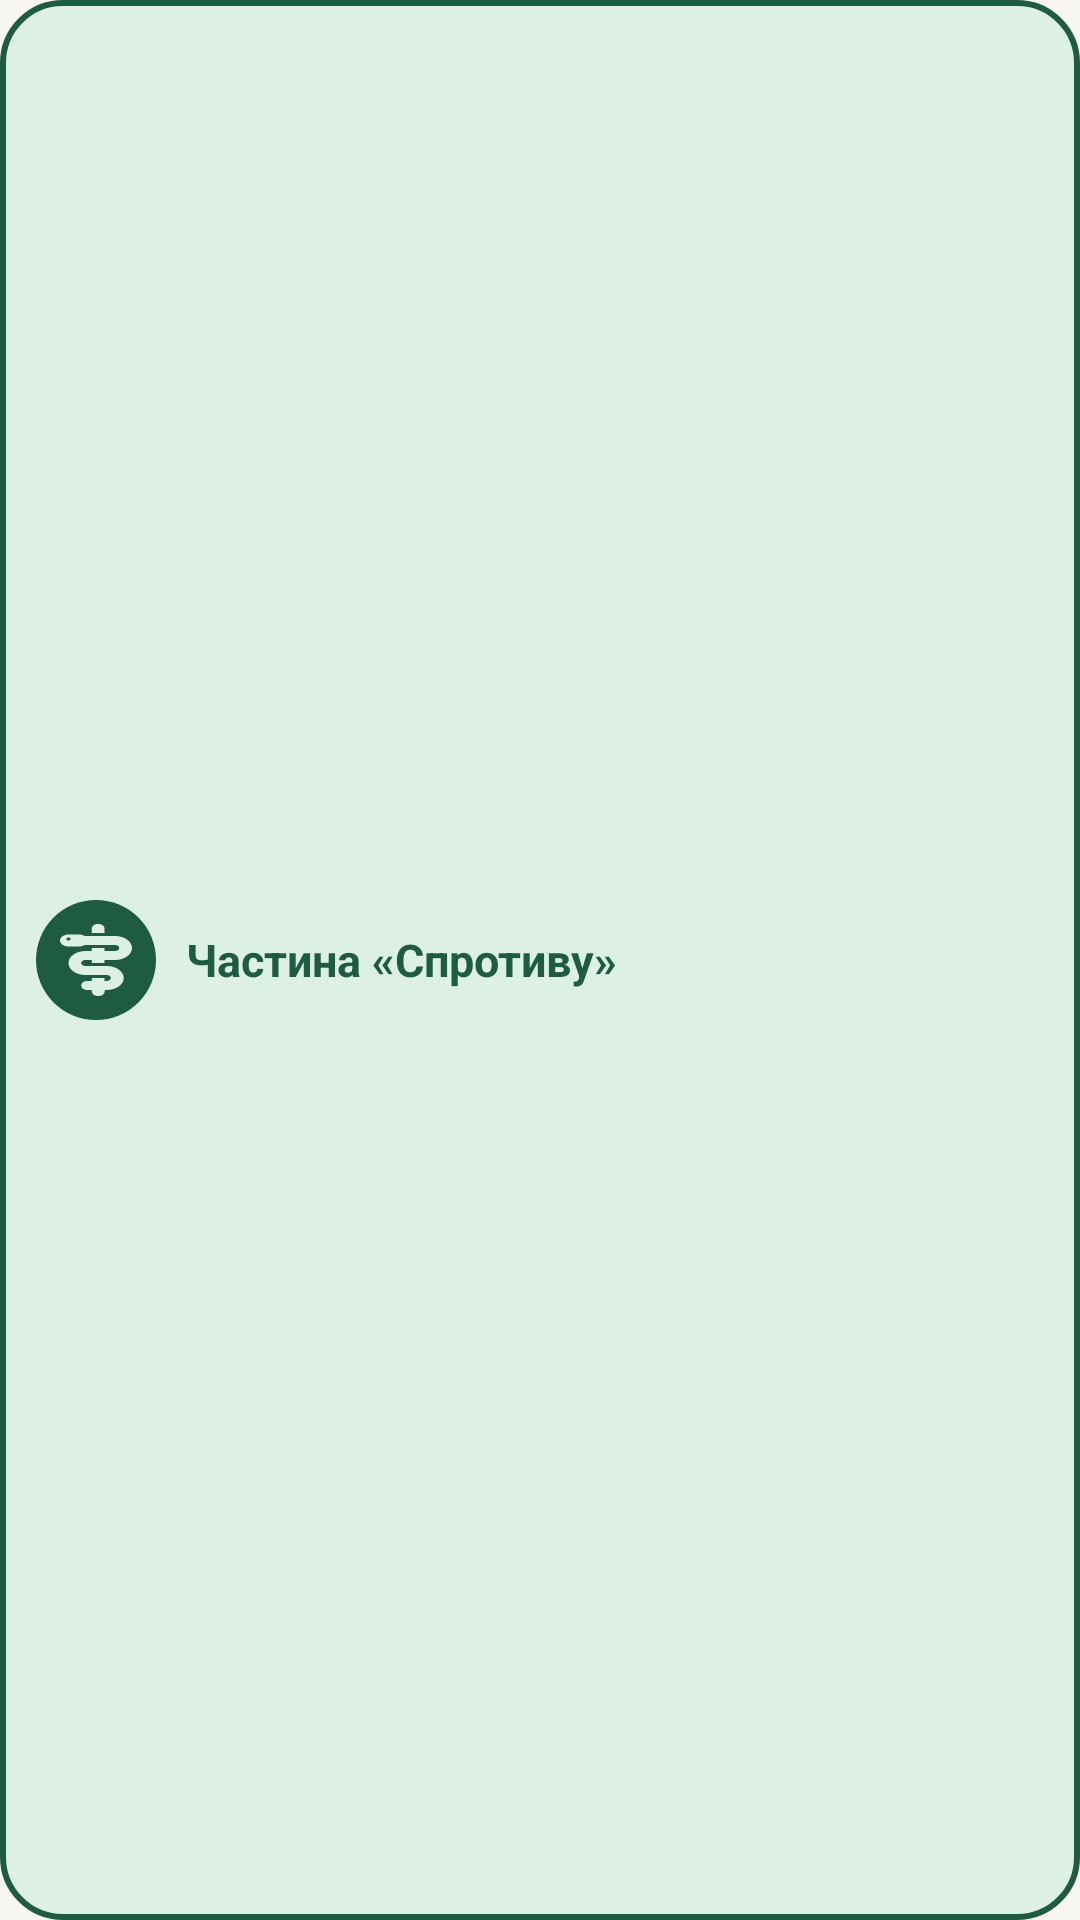

Icon bounding boxes for this 1080px×1920px phone screenshot, format (x1,y1,x2,y2):
ocha health: (36,900,156,1020)
